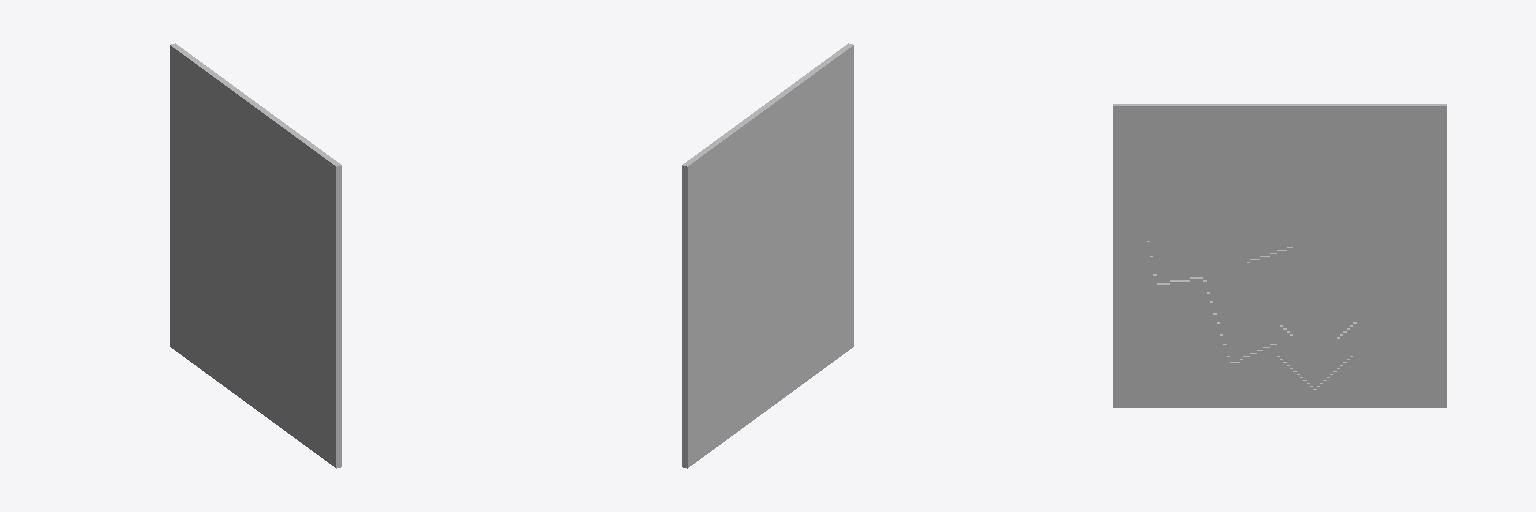
The model's file is Poster TS.obj.
The picture shows the model from 3 angles: view 1: azimuth 30°, elevation 25°; view 2: azimuth 150°, elevation 25°; view 3: azimuth 270°, elevation 25°; orthographic projection.
Bounding box in the file's own units: 2 × 100 × 100.